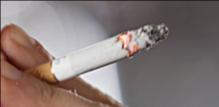Cigarette: (26, 23, 169, 83)
